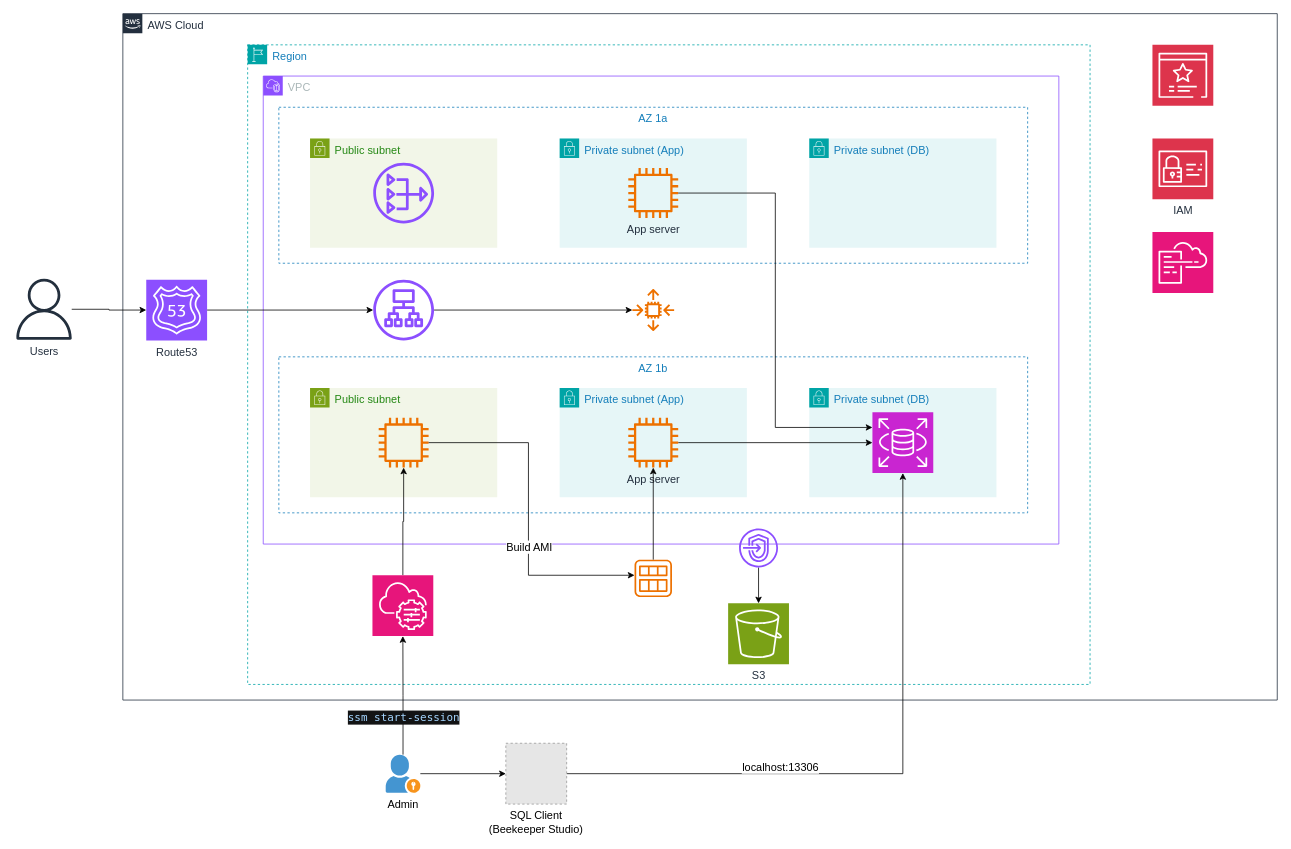
The diagram is 1291 pixels wide and 849 high, and some of its shapes have lost their labels. Grey dashed boxes stand in for pictures. Here are the shapes that lost their labels. From the top down, the centre of each, then its label:
At [1182,75]: "Certificate Manager".
At [403,192]: "NAT".
At [1182,262]: "Cloudformation".
At [403,309]: "ALB".
At [653,310]: "ASG".
At [403,442]: "Bastion (Build AMI, Connect DB)".
At [902,442]: "RDS".
At [758,547]: "VPC Gateway Endpoint".
At [653,578]: "AMI".
At [402,605]: "System manager (Session Manager)".
